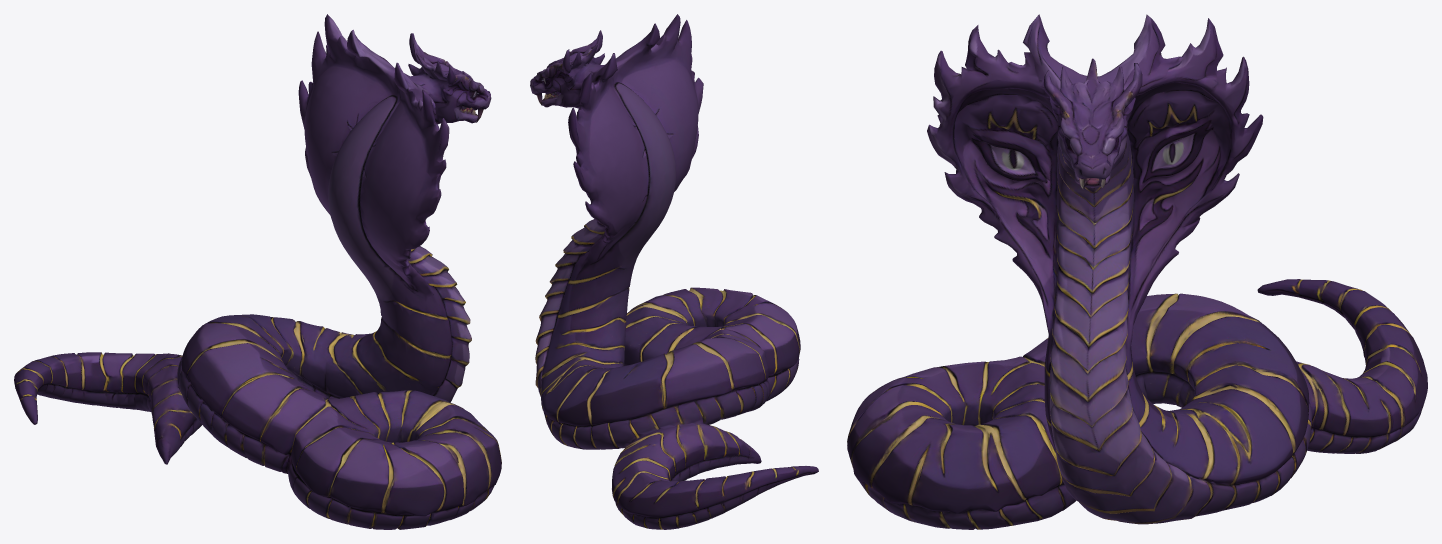
The model's file is 2024-Najarok.glb.
3 renders of one model, left to right at view 1: azimuth 30°, elevation 25°; view 2: azimuth 150°, elevation 25°; view 3: azimuth 270°, elevation 25°, orthographic. The views are drawn at different scales.
Visible parts, largest first — view 1: tripo_node_95255768-3feb-4dd5-b520-00caa6f910d9; view 2: tripo_node_95255768-3feb-4dd5-b520-00caa6f910d9; view 3: tripo_node_95255768-3feb-4dd5-b520-00caa6f910d9.
Boxes of the visible parts, x1,y1,x2,y2 form: tripo_node_95255768-3feb-4dd5-b520-00caa6f910d9: [14, 14, 501, 529]; tripo_node_95255768-3feb-4dd5-b520-00caa6f910d9: [530, 14, 818, 529]; tripo_node_95255768-3feb-4dd5-b520-00caa6f910d9: [847, 14, 1427, 529].
Size of the model in its own units: 0.9277 by 0.95 by 1.
Materials: 1 (1 with a texture image).
